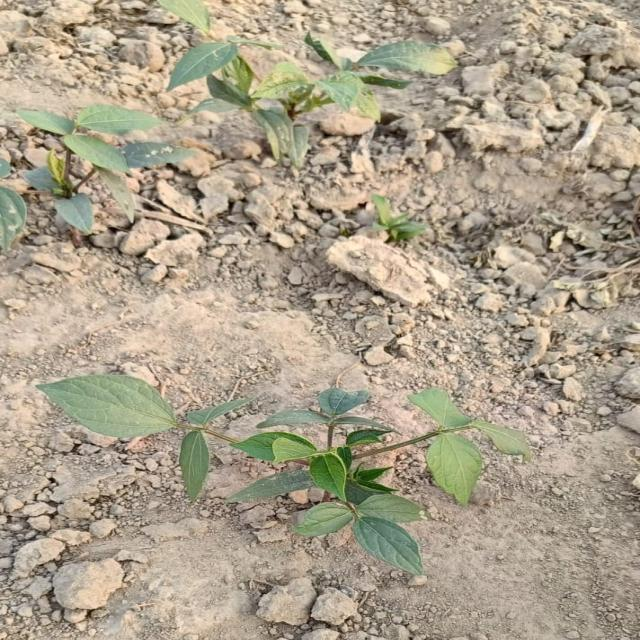plant: (39, 376, 530, 575), (167, 35, 455, 165), (18, 104, 191, 234), (158, 0, 209, 33)
